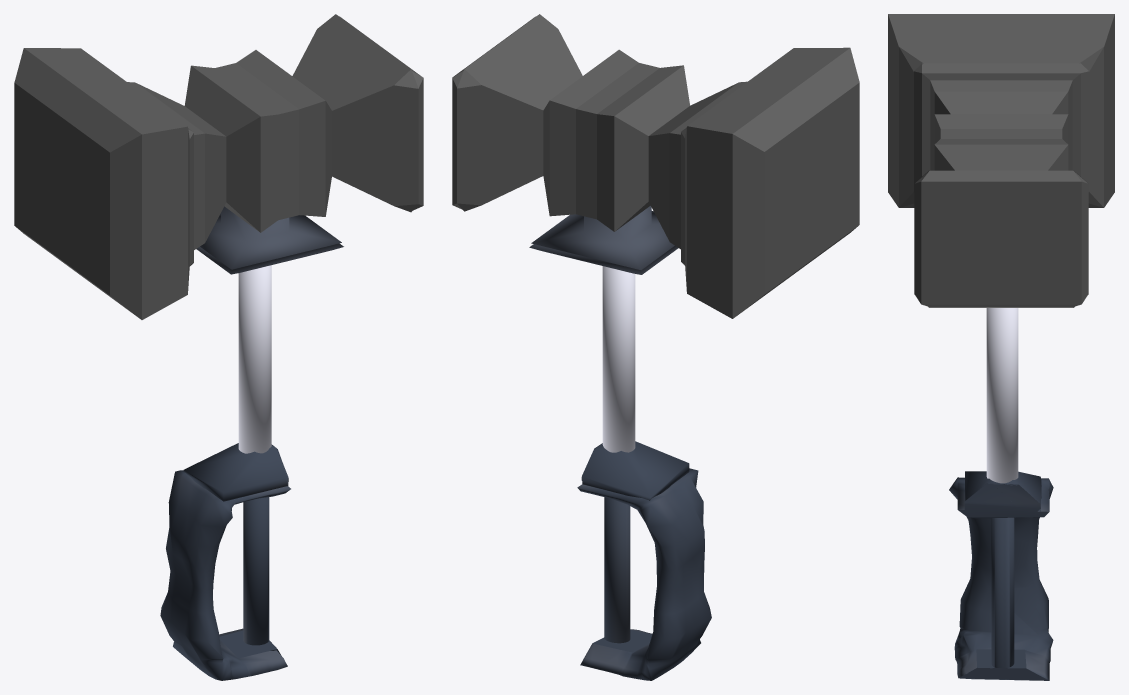
Rendered from Hammer.fbx.
The picture shows the model from 3 angles, left to right: view 1: azimuth 30°, elevation 25°; view 2: azimuth 150°, elevation 25°; view 3: azimuth 270°, elevation 25°; orthographic projection. The views are drawn at different scales.
Parts seen in each view (by area): view 1: Cube.002, Cube, Cylinder, Cube.001; view 2: Cube.002, Cube, Cylinder, Cube.001; view 3: Cube.002, Cube, Cylinder.
Part boxes in pixels (x1=…): Cube.002: x1=14, y1=14, x2=423, y2=319; Cube: x1=160, y1=443, x2=290, y2=680; Cylinder: x1=238, y1=265, x2=271, y2=453; Cube.001: x1=196, y1=206, x2=343, y2=274; Cube.002: x1=452, y1=14, x2=859, y2=318; Cube: x1=577, y1=441, x2=711, y2=680; Cylinder: x1=602, y1=266, x2=635, y2=452; Cube.001: x1=529, y1=206, x2=678, y2=274; Cube.002: x1=888, y1=14, x2=1114, y2=307; Cube: x1=949, y1=471, x2=1053, y2=680; Cylinder: x1=986, y1=308, x2=1018, y2=483.
Size of the model in its own units: 577 by 1049 by 370.
